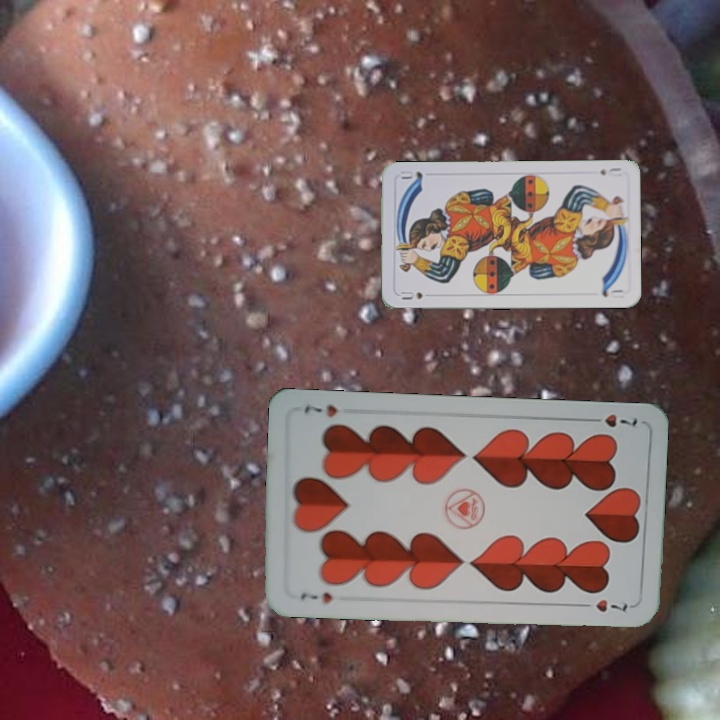H7: (583, 409, 640, 430), (297, 588, 335, 606)
SU: (596, 163, 624, 179), (397, 287, 425, 302)
